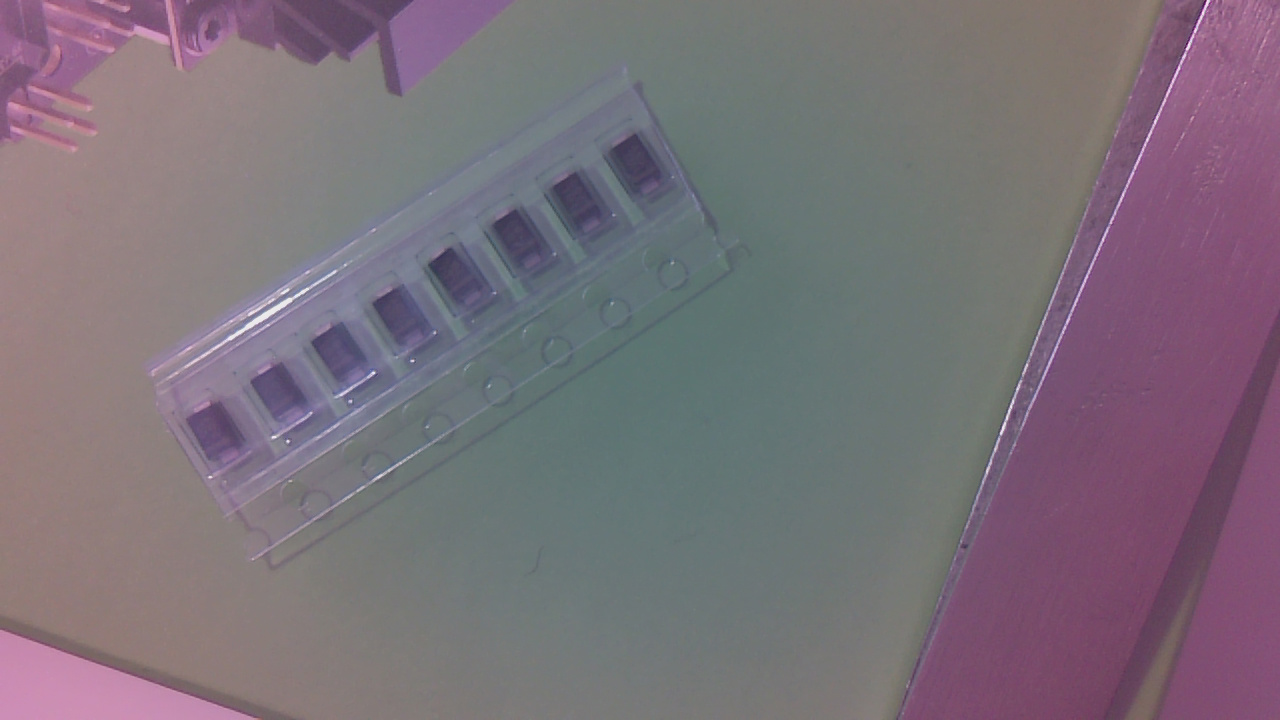Diode: (190, 406, 256, 469), (252, 365, 313, 429), (375, 292, 435, 355), (314, 327, 376, 387), (432, 250, 491, 313), (552, 177, 611, 239), (494, 211, 552, 274), (612, 142, 669, 200)
